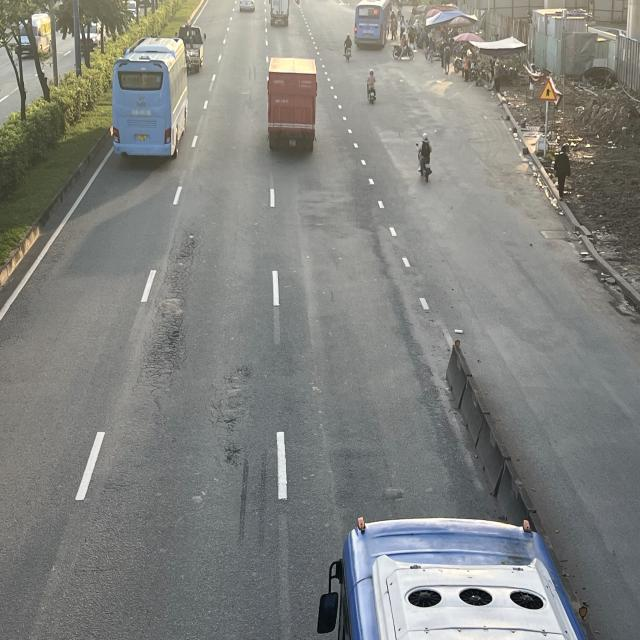coach: (321, 513, 589, 640), (110, 35, 188, 159), (355, 0, 388, 46)
truck: (267, 56, 319, 151)
